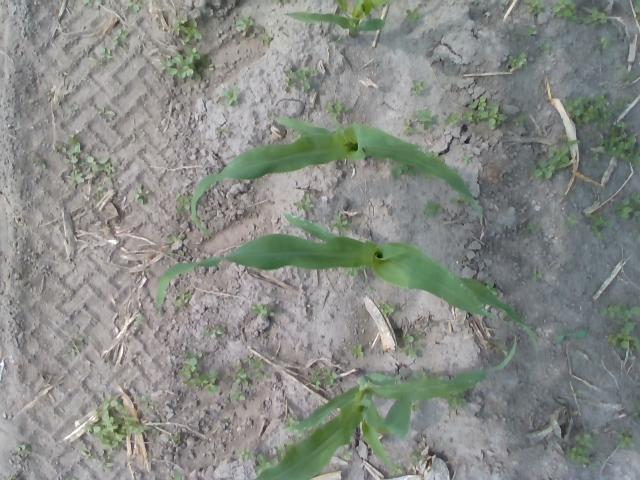Maize: (153, 213, 542, 354), (248, 335, 516, 480), (186, 112, 484, 236), (285, 0, 391, 38)
Weeds: (82, 395, 133, 450), (530, 134, 580, 180), (592, 122, 640, 164), (563, 89, 614, 127), (178, 349, 219, 393), (160, 46, 208, 82), (462, 96, 507, 130), (564, 433, 598, 468), (607, 321, 640, 352), (54, 134, 84, 164), (171, 14, 203, 42), (282, 66, 316, 90), (584, 210, 612, 239), (599, 302, 640, 321), (611, 192, 640, 218), (78, 449, 115, 468), (550, 0, 580, 22), (80, 155, 116, 173), (254, 452, 279, 476), (400, 332, 422, 359), (554, 326, 586, 344), (246, 356, 268, 382), (441, 389, 468, 410), (390, 162, 420, 180), (583, 6, 607, 28), (324, 101, 350, 121), (412, 108, 434, 130), (230, 363, 250, 386), (328, 214, 351, 234), (218, 86, 240, 106), (284, 414, 304, 436), (421, 200, 444, 218), (616, 428, 636, 448), (66, 336, 85, 357), (292, 193, 314, 211), (202, 324, 226, 340), (163, 233, 183, 252), (96, 45, 114, 66), (249, 302, 274, 317), (127, 422, 158, 434), (440, 112, 463, 128), (481, 278, 499, 298), (507, 52, 527, 70), (522, 0, 546, 15), (408, 447, 428, 465), (403, 6, 422, 24), (112, 27, 130, 46), (132, 186, 150, 205), (492, 338, 511, 355), (234, 13, 253, 30), (174, 289, 192, 306), (403, 118, 421, 135), (409, 78, 426, 96), (95, 175, 112, 193), (175, 194, 192, 212), (66, 166, 83, 184), (322, 366, 338, 385), (138, 394, 156, 410), (228, 388, 246, 404), (124, 0, 144, 14), (273, 438, 292, 452), (348, 343, 365, 358), (235, 446, 253, 460), (14, 442, 31, 456), (80, 0, 106, 9), (616, 94, 632, 108), (622, 68, 638, 82), (100, 106, 116, 120), (560, 216, 578, 228), (449, 196, 465, 209), (379, 302, 396, 314), (410, 370, 430, 380), (312, 368, 322, 388), (629, 400, 640, 418), (514, 113, 528, 127), (34, 156, 48, 170), (524, 222, 540, 234), (344, 266, 360, 278), (459, 152, 474, 164), (632, 0, 640, 21), (599, 36, 611, 49), (258, 32, 272, 42), (540, 42, 551, 54), (524, 25, 536, 36), (568, 389, 586, 396), (532, 270, 544, 280), (410, 400, 420, 412), (390, 464, 402, 474), (340, 449, 353, 458), (627, 228, 639, 237), (171, 433, 183, 441), (173, 472, 183, 480), (64, 475, 78, 480), (367, 286, 376, 292), (267, 112, 274, 118), (274, 0, 282, 5)
